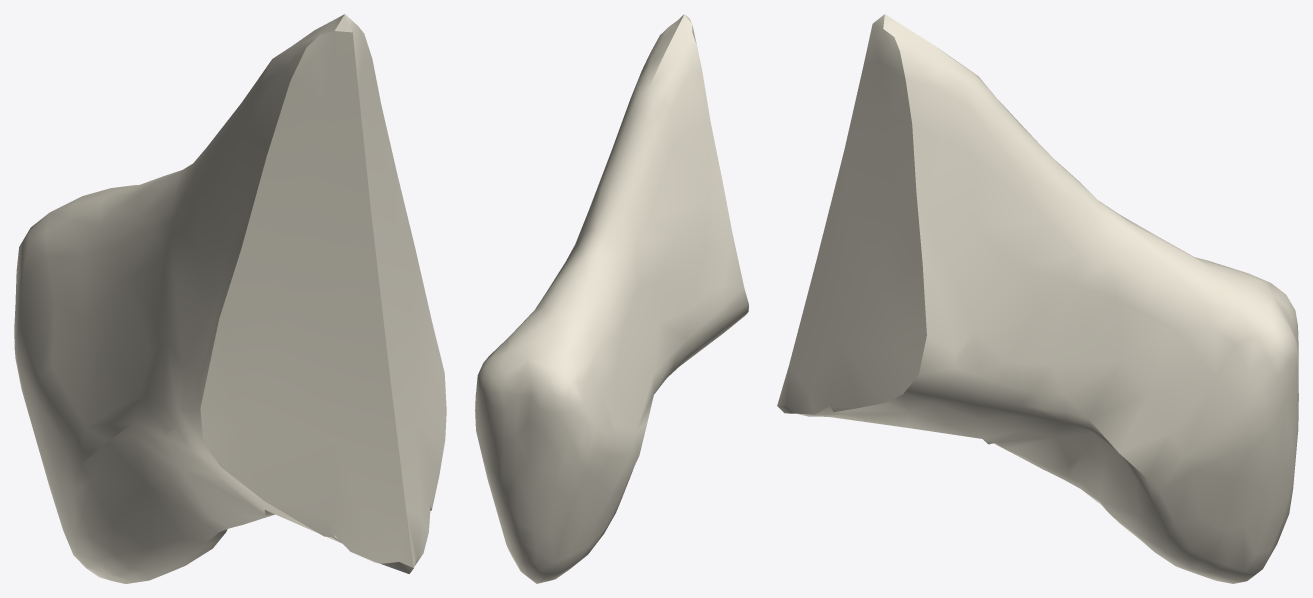
File: fma10072_mm2392.glb
3 renders of one model, left to right at view 1: azimuth 30°, elevation 25°; view 2: azimuth 150°, elevation 25°; view 3: azimuth 270°, elevation 25°, orthographic. The views are drawn at different scales.
Parts seen in each view (by area): view 1: FMA10072_MM2392; view 2: FMA10072_MM2392; view 3: FMA10072_MM2392.
Part boxes in pixels (x1,y1,x2,y2): FMA10072_MM2392: [14, 14, 446, 583]; FMA10072_MM2392: [475, 14, 748, 583]; FMA10072_MM2392: [777, 14, 1298, 583].
Size of the model in its own units: 0.00925 by 0.0265 by 0.0221.
